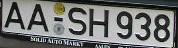-: (53, 16, 64, 22)
3: (135, 12, 151, 41)
8: (154, 14, 170, 43)
9: (116, 11, 132, 39)
A: (27, 3, 49, 32), (5, 2, 25, 29)
H: (88, 8, 109, 38)
S: (68, 7, 87, 35)
